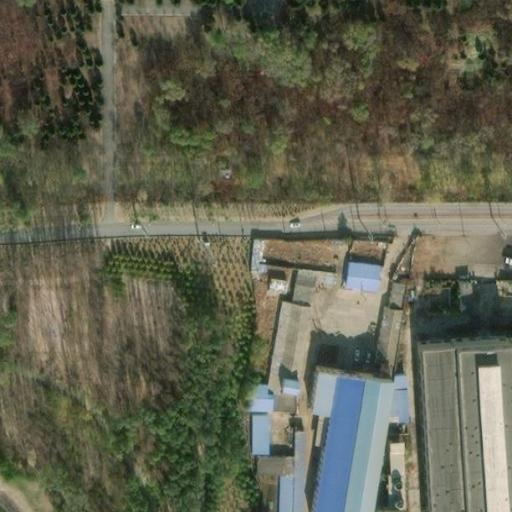building: (410, 333, 512, 512), (303, 355, 381, 512), (235, 260, 306, 404), (363, 271, 397, 367), (245, 408, 269, 455), (388, 372, 410, 422), (419, 278, 450, 310), (375, 445, 391, 503), (340, 256, 371, 285), (248, 236, 265, 275), (367, 503, 391, 512)
